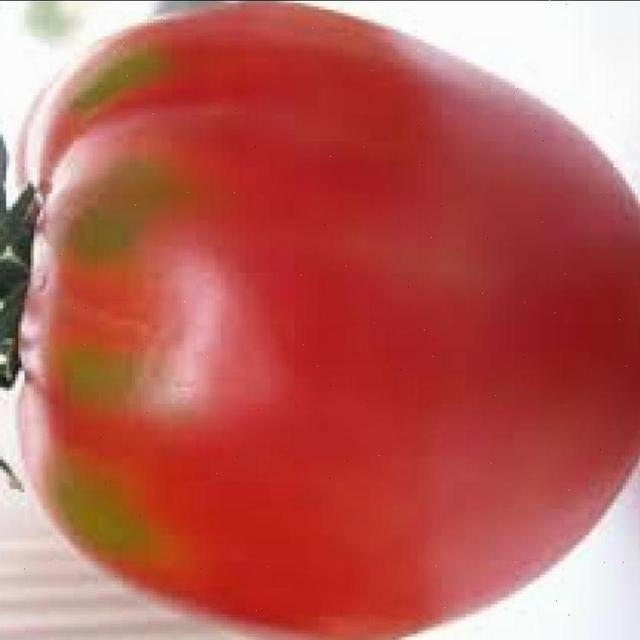Healthy Fruit: (10, 8, 427, 427)
